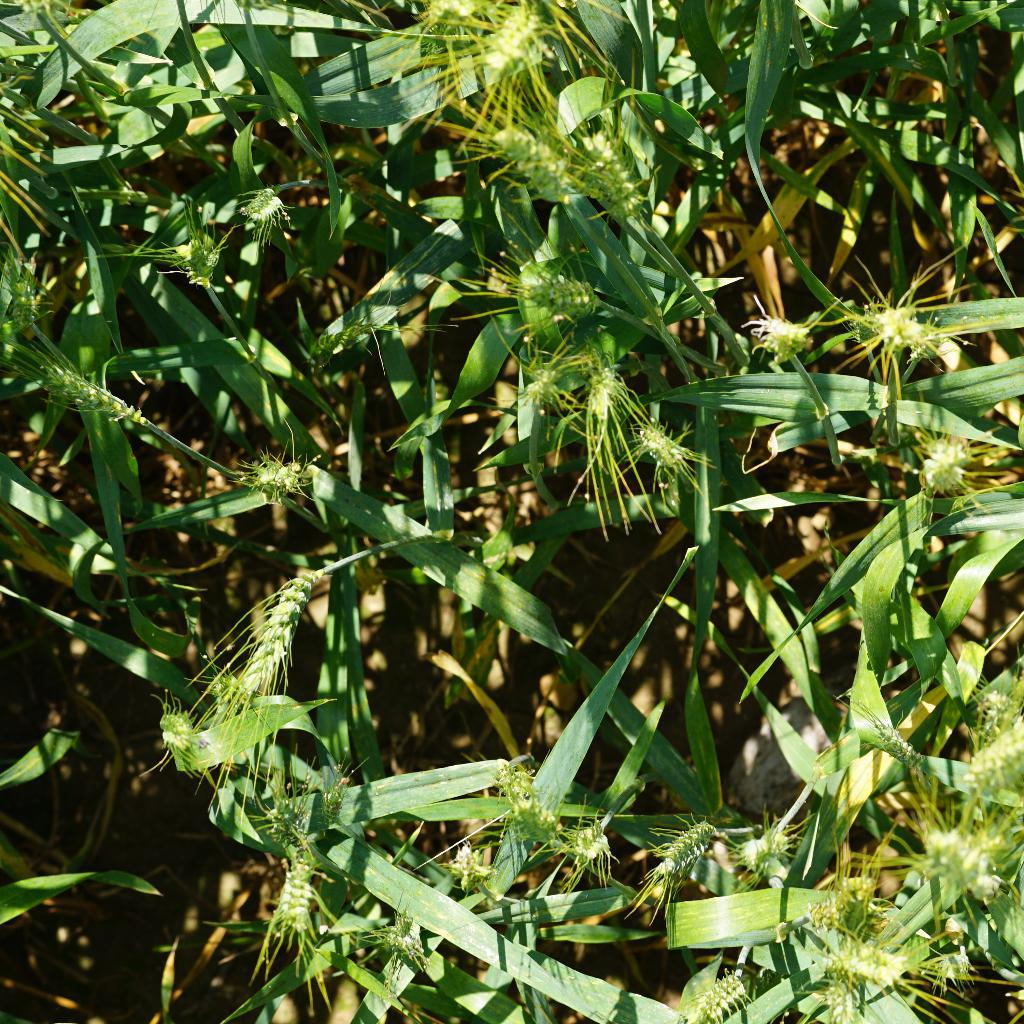0-0: (249, 568, 343, 688), (29, 355, 163, 437), (568, 126, 657, 230), (512, 250, 616, 328), (494, 116, 579, 209), (636, 806, 725, 892), (912, 823, 1012, 894), (813, 922, 912, 993), (461, 1, 542, 82), (484, 751, 553, 843), (261, 844, 324, 941), (651, 964, 761, 1019), (852, 709, 942, 772), (851, 296, 941, 358), (956, 710, 1024, 792), (440, 832, 501, 914), (295, 305, 373, 367), (901, 425, 968, 497), (742, 305, 814, 370), (950, 673, 1024, 733), (632, 417, 705, 477), (367, 915, 434, 980), (818, 864, 893, 922), (165, 217, 220, 291), (235, 451, 307, 507), (578, 359, 630, 436), (418, 0, 496, 48), (0, 246, 48, 322), (742, 815, 792, 879), (814, 979, 885, 1024), (565, 815, 612, 878), (149, 710, 208, 759), (309, 781, 366, 830), (514, 355, 565, 408), (239, 178, 290, 230), (247, 793, 307, 834)
